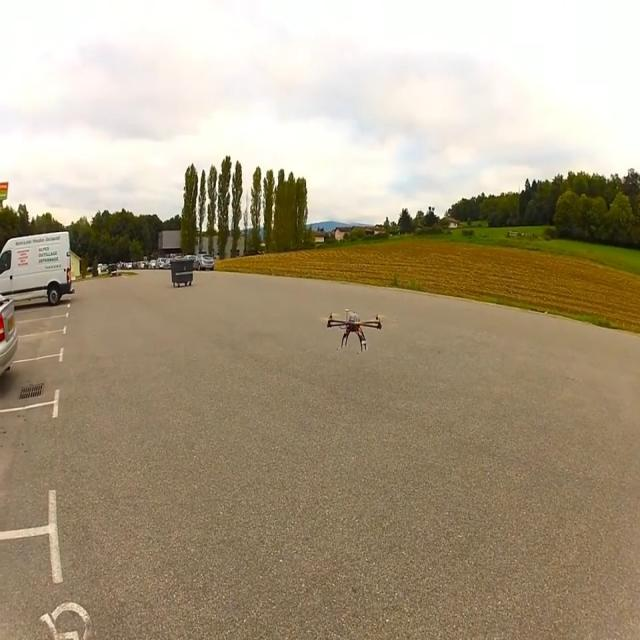drone: (326, 307, 382, 353)
